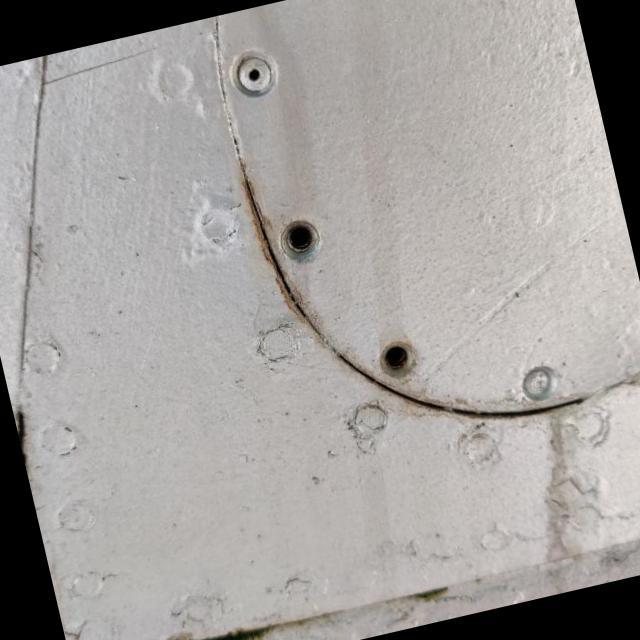Fastener Damage: (252, 197, 349, 292), (357, 314, 438, 402)
